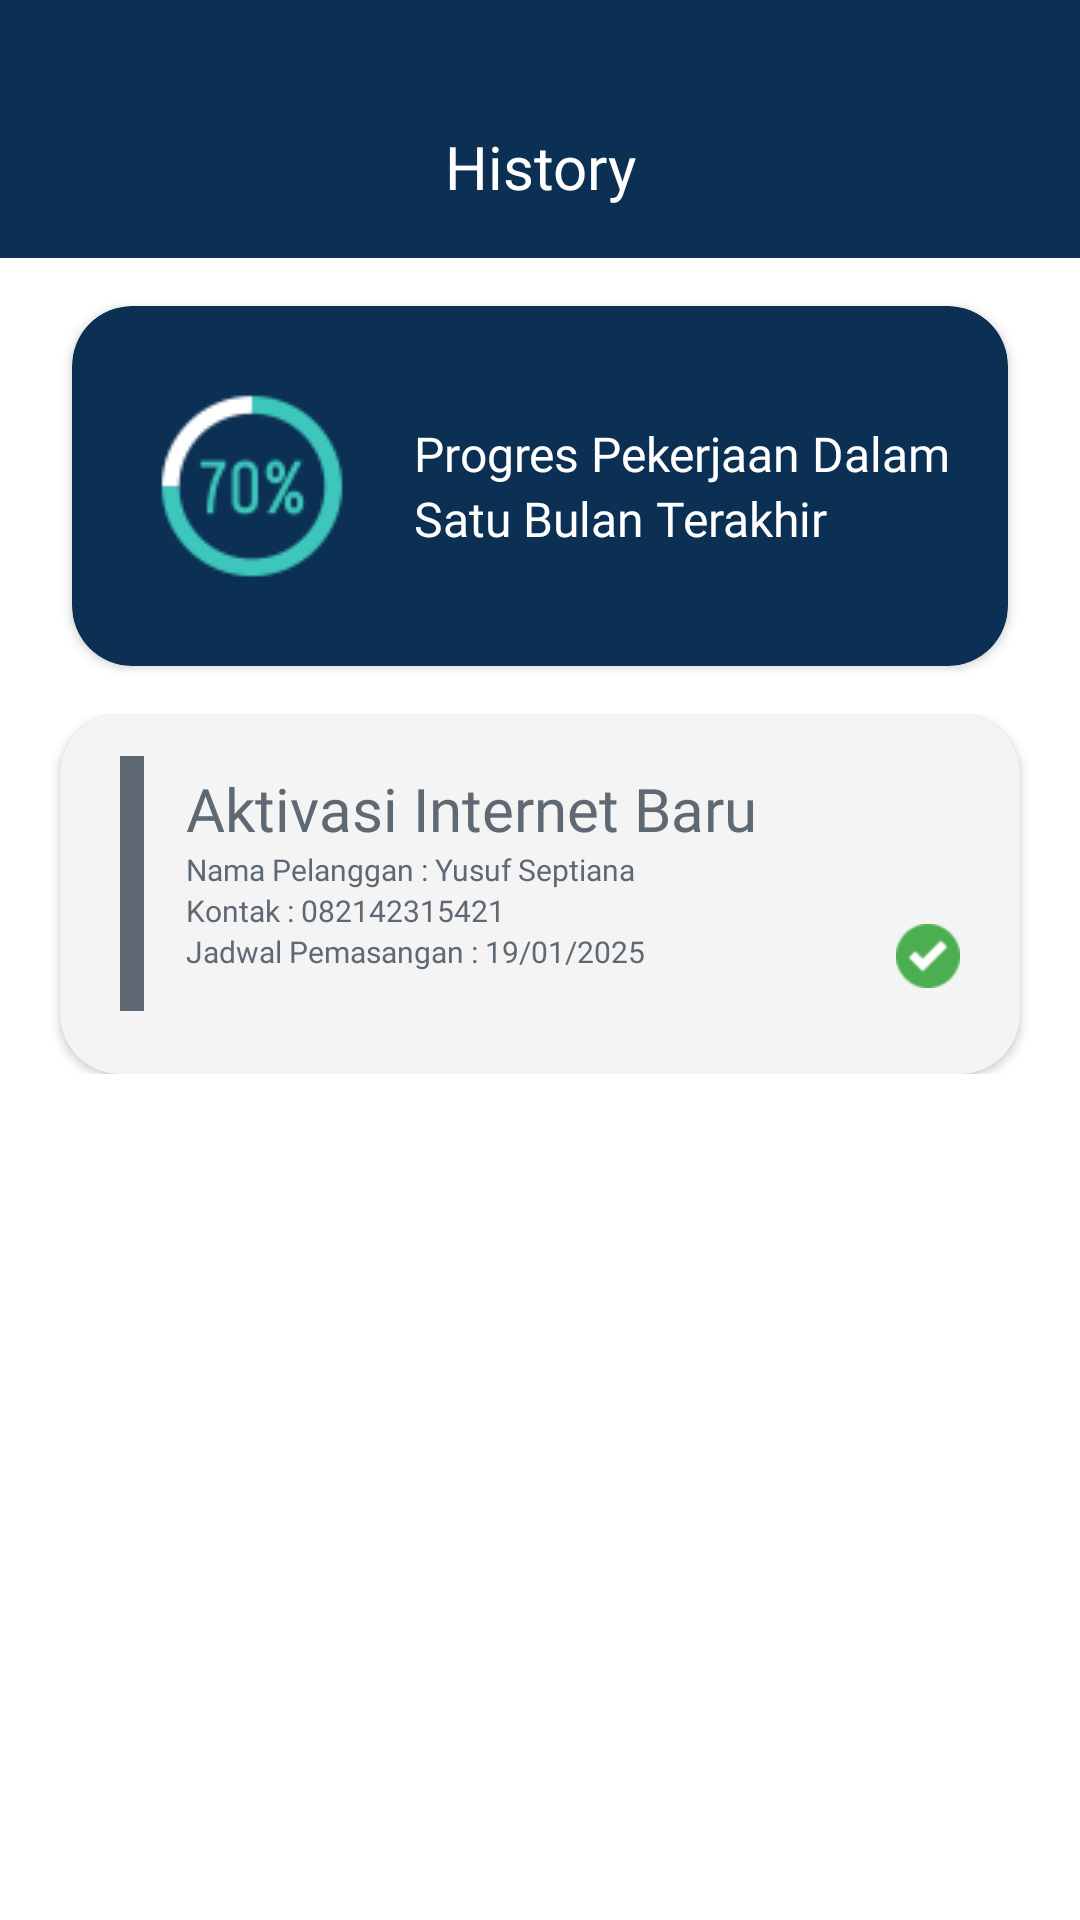

Icon click points for this 1080 x 1920 phone screenshot, format [x,y]:
accept: [928,956]
percentage: [252,486]
